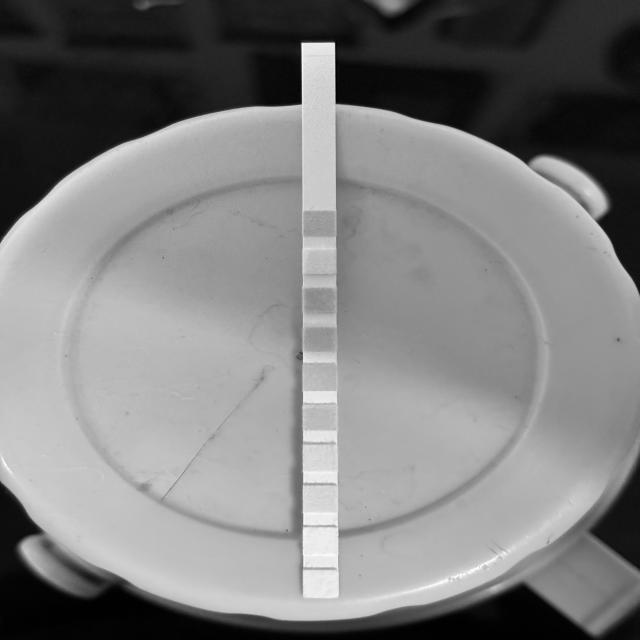Bilirubin: (305, 251, 335, 274)
Blood: (304, 365, 336, 390)
Glucose: (304, 212, 334, 234)
Ketone: (304, 289, 336, 312)
Leukocytes: (304, 572, 338, 596)
Nitrite: (303, 529, 337, 552)
Protein: (304, 446, 336, 471)
SpGravity: (304, 327, 336, 352)
Urobilinogen: (304, 486, 336, 511)
background: (0, 0, 640, 640)
pH: (303, 406, 336, 430)
strip: (303, 75, 338, 598)
